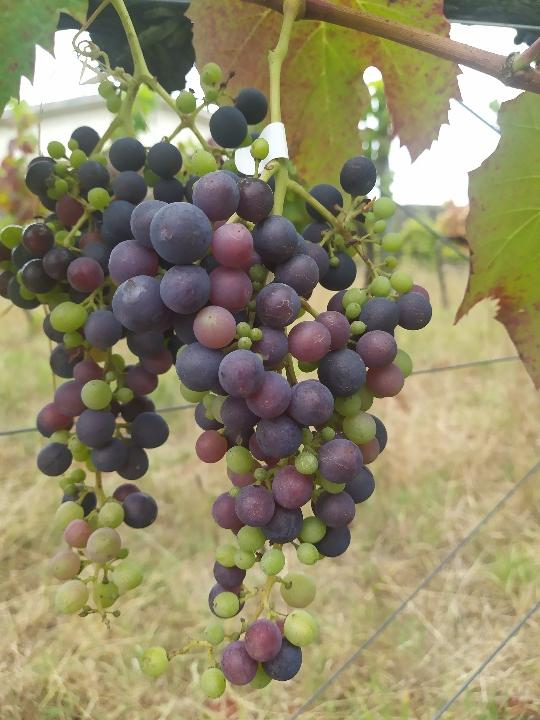grape: (105, 83, 436, 704)
